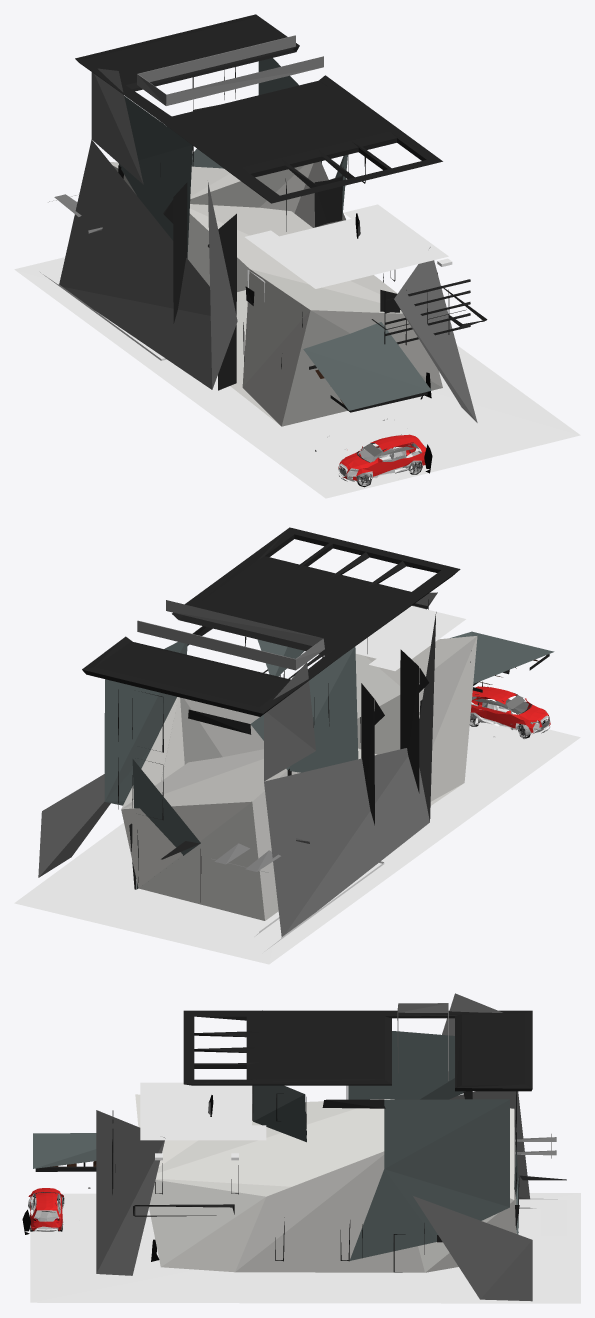
Rendered from house-12marla.lod1.glb.
3 renders of one model, top to bottom at view 1: azimuth 30°, elevation 25°; view 2: azimuth 150°, elevation 25°; view 3: azimuth 270°, elevation 25°, orthographic. The views are drawn at different scales.
Parts seen in each view (by area): view 1: bump_rea01 1_6; view 2: bump_rea01 1_6; view 3: bump_rea01 1_6.
Boxes of the visible parts, x1,y1,x2,y2 form: bump_rea01 1_6: (14, 14, 580, 498); bump_rea01 1_6: (14, 527, 580, 964); bump_rea01 1_6: (22, 993, 580, 1303).
Bounding box in the file's own units: 14.14 × 12.74 × 30.45.
1 material, 1 textured.
